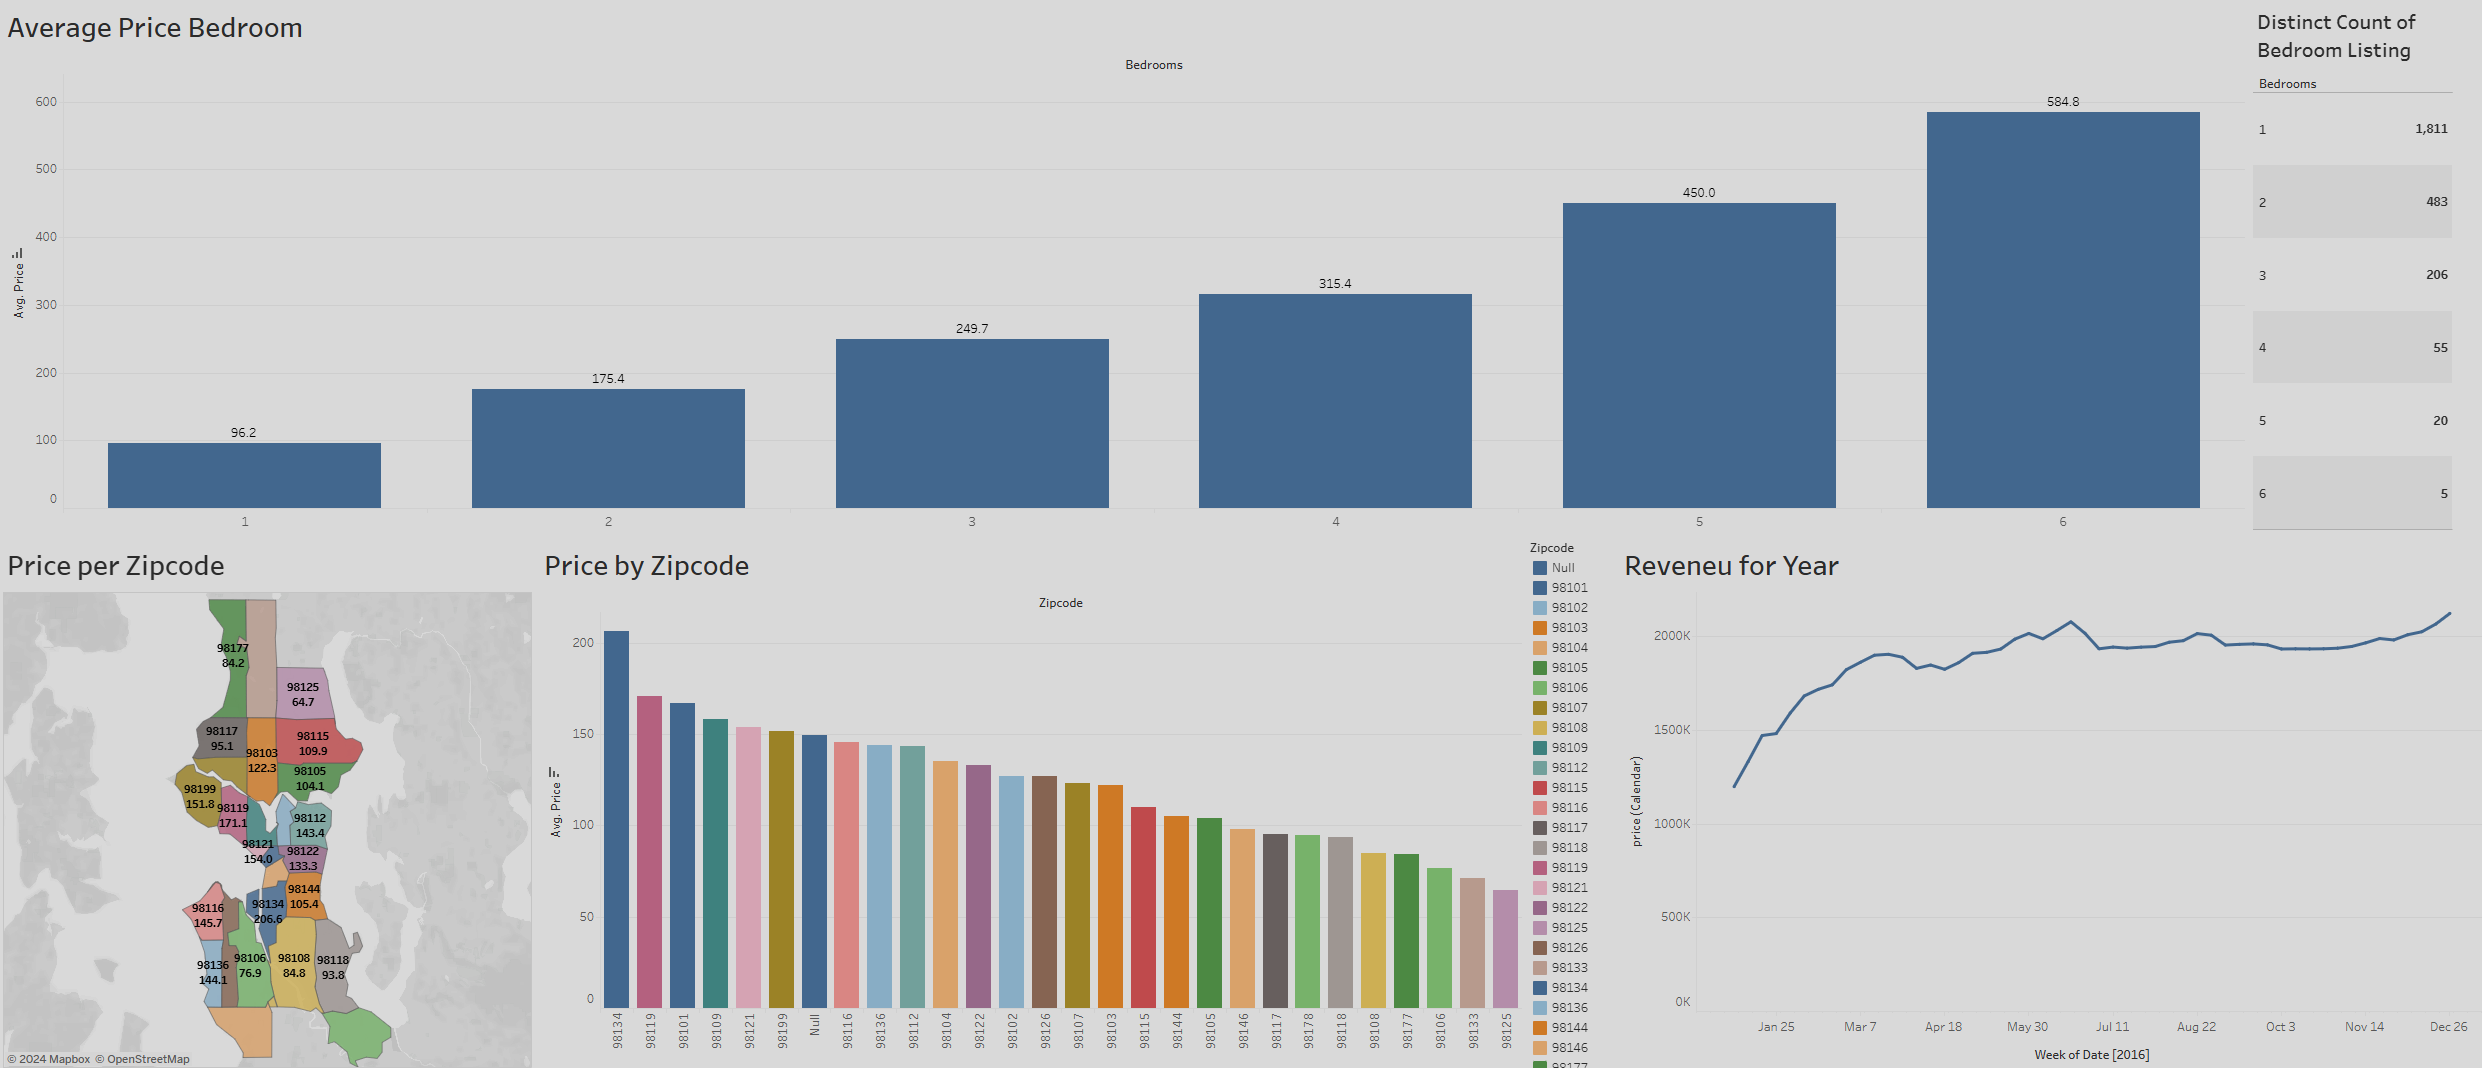

What the dashboard file says about the page in this screenshot:
{"tool":"tableau","page":{"name":"Dashboard 1","canvas":[1000,1000],"units":"permille","ordinal":0},"visuals":[{"type":"worksheet","title":"Average Price Bedroom","mark":"Automatic","rows":["price"],"cols":["bedrooms"],"box":[3.6,6.6,896.2,493.4]},{"type":"worksheet","title":"Distinct Count of Bedroom Listing","mark":"Automatic","rows":["bedrooms"],"box":[899.8,6.6,96.6,493.4]},{"type":"worksheet","title":"Price per Zipcode","mark":"Multipolygon","box":[3.6,500,213.9,493.4]},{"type":"worksheet","title":"Price by Zipcode","mark":"Automatic","rows":["price"],"cols":["zipcode"],"box":[217.5,500,394.2,493.4]},{"type":"legend","title":"Price by Zipcode","param":"[federated.1hapb6i1f2ljz018p92nw1gy3n3n].[none:zipcode:ok]","box":[611.6,500,35.8,493.4]},{"type":"worksheet","title":"Reveneu for Year","mark":"Automatic","rows":["price (Calendar)"],"cols":["date"],"box":[647.4,500,349,493.4]}]}

Visuals, with their boxes on the dashboard's canvas, which has no fixed pixel size, in thousandths of its width and height (x1, y1, x2, y2). These are canvas units, not pixel positions in the 2482x1068 screenshot, which may show the page scaled, cropped or inside an application window:
"Average Price Bedroom" worksheet: (4, 7, 900, 500)
"Distinct Count of Bedroom Listing" worksheet: (900, 7, 996, 500)
"Price per Zipcode" worksheet (Multipolygon marks): (4, 500, 218, 993)
"Price by Zipcode" worksheet: (218, 500, 612, 993)
"Price by Zipcode" legend: (612, 500, 647, 993)
"Reveneu for Year" worksheet: (647, 500, 996, 993)
